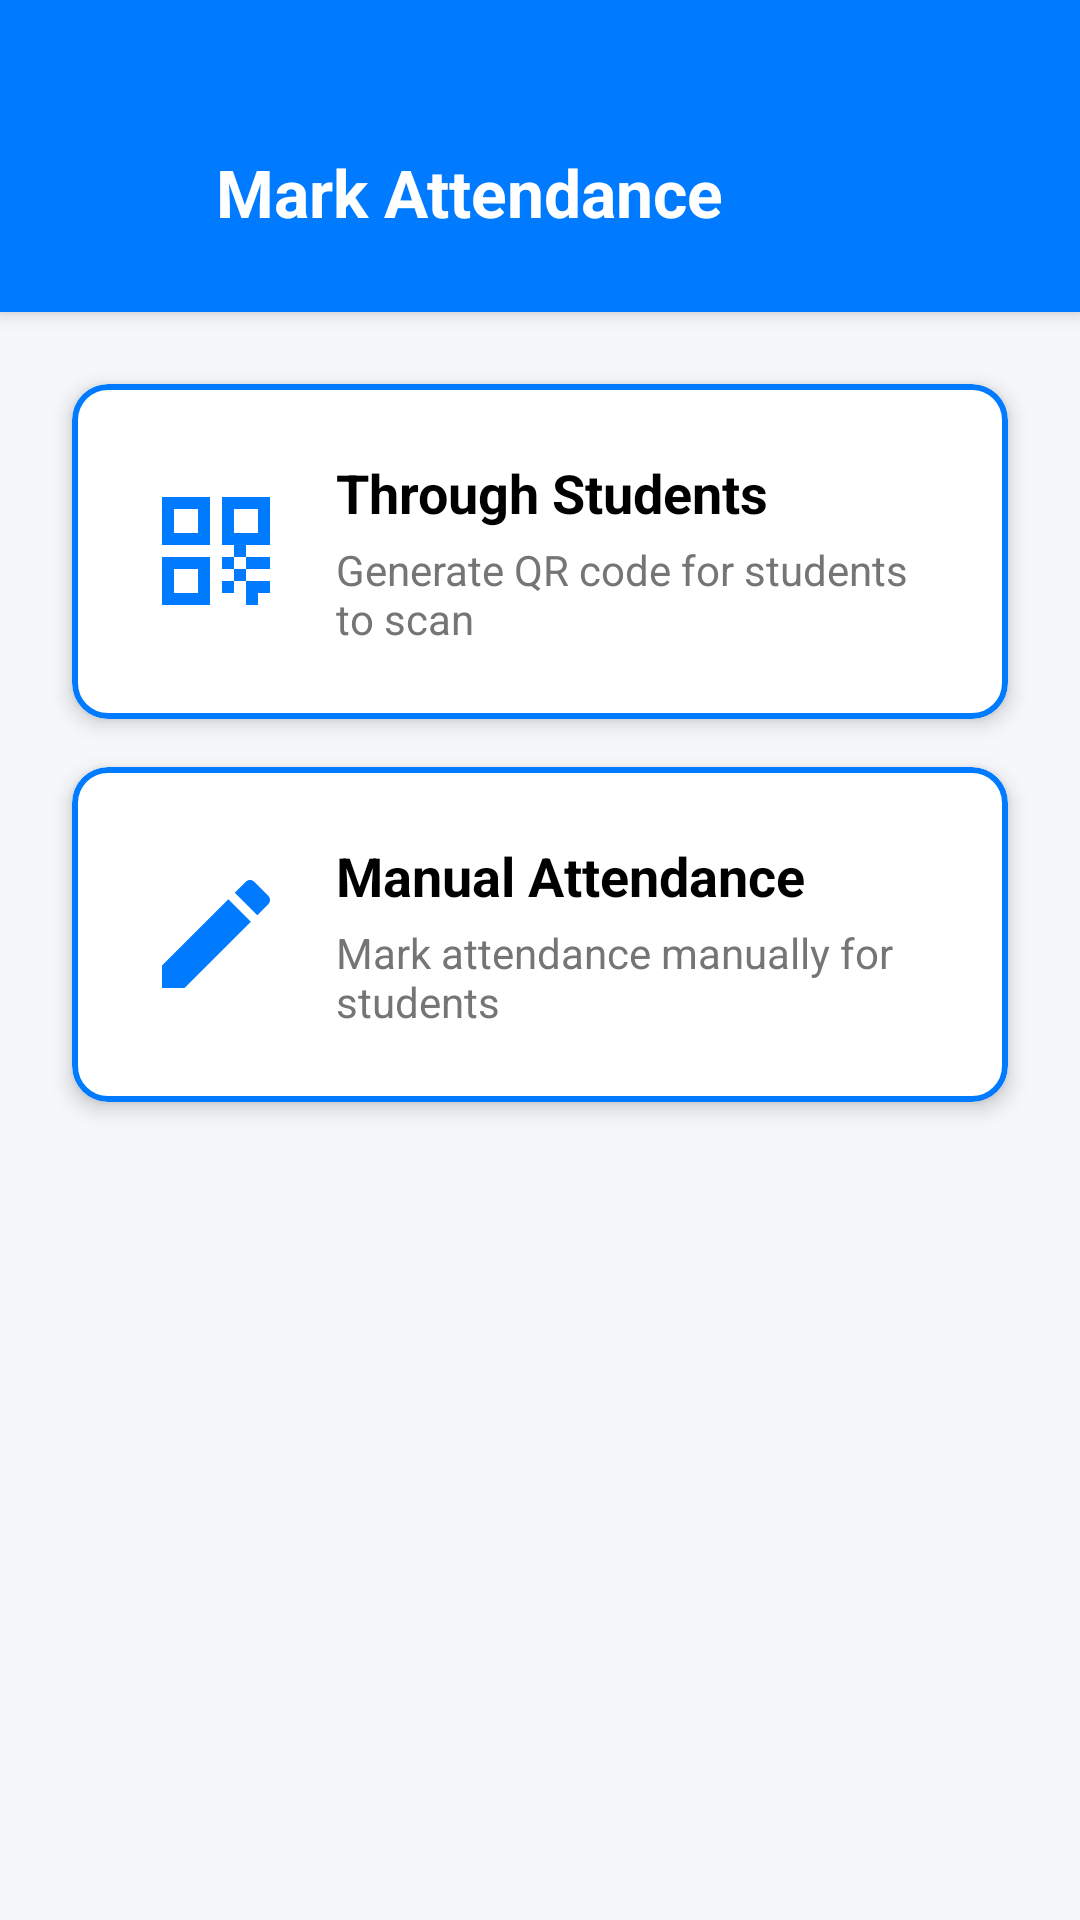

Icons on this 1080px×1920px Android screen, each with its box as rect(x1, y1, x2, y2):
edit: rect(162, 880, 270, 988)
